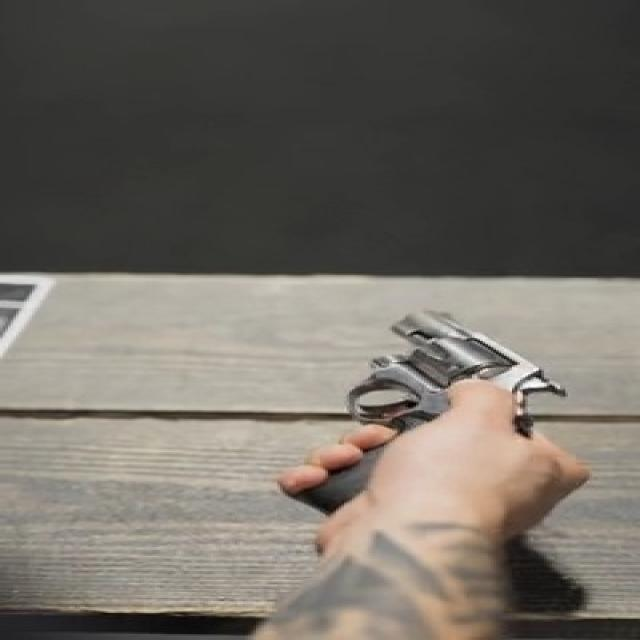Gun_Holder: (242, 309, 620, 528)
